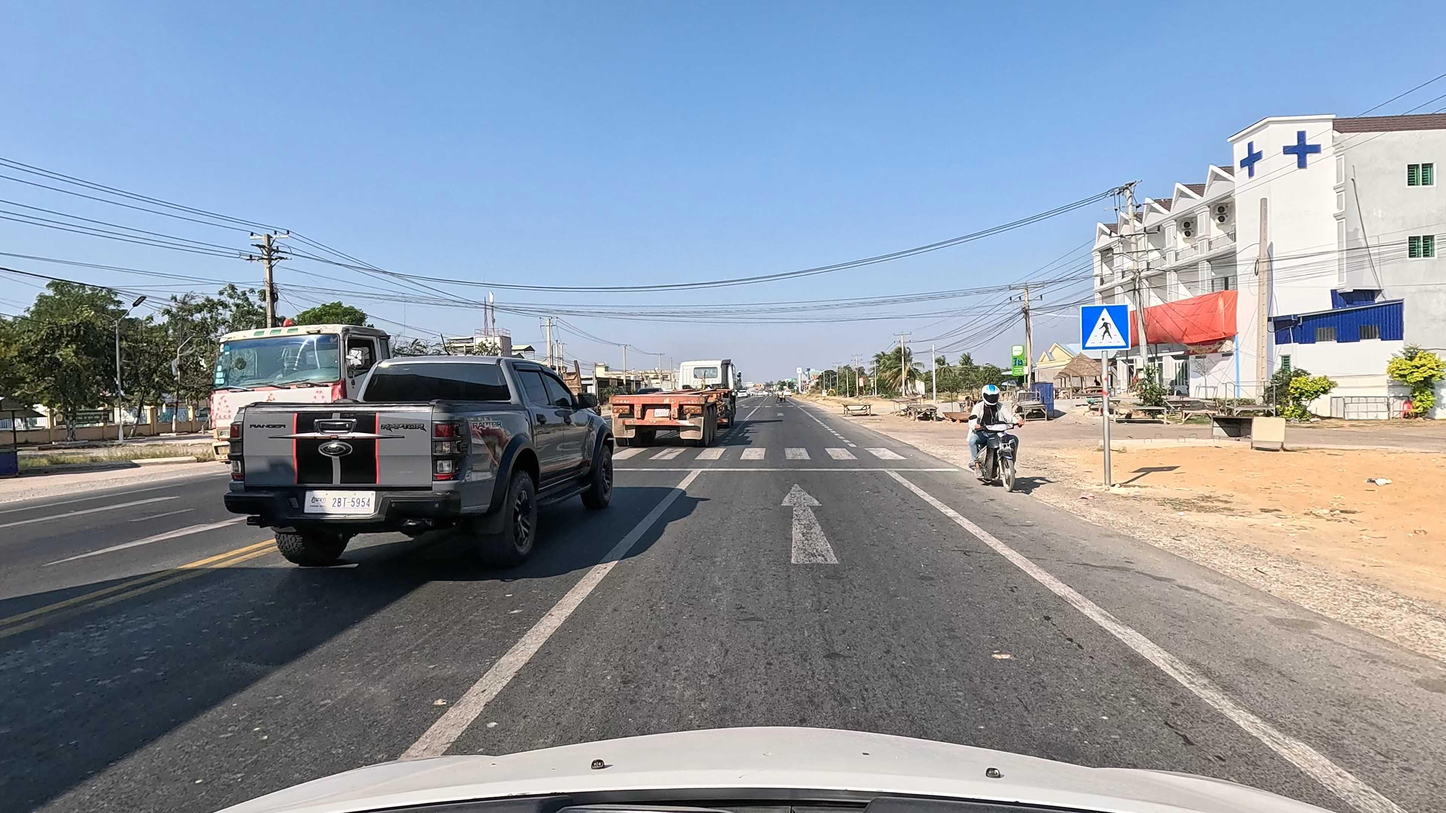pedestrian_crossing: (1080, 303, 1133, 352)
